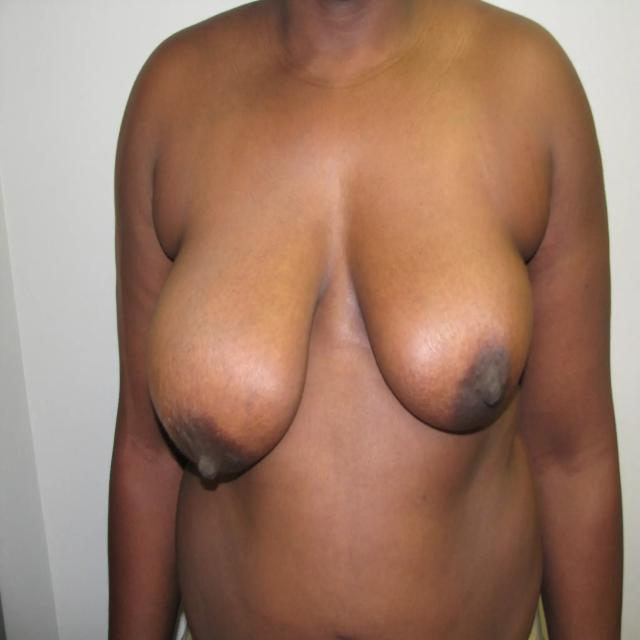Seno ileso: (141, 144, 333, 513), (338, 144, 539, 463)
